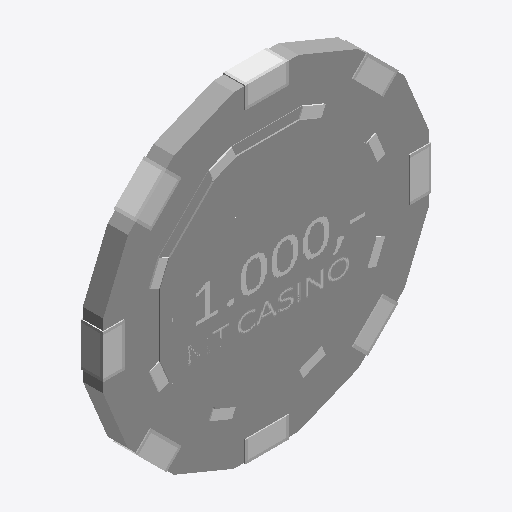
A Minecraft block model of 66 cuboids, rendered isometrically (azimuth 45°, elevation 35.3°) with the resource pack's own textures.
Parts seen in each view (by area): hexadecagon (×35).
Part boxes in pixels (left/top/right/bottom): hexadecagon (×35): left=81, top=37, right=430, bottom=474.
Bounding box in the file's own units: 16.1 × 16.1 × 1.2.